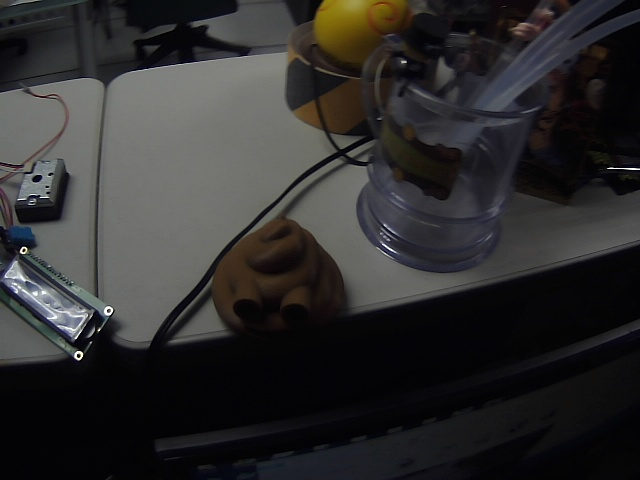shit: (204, 209, 352, 348)
